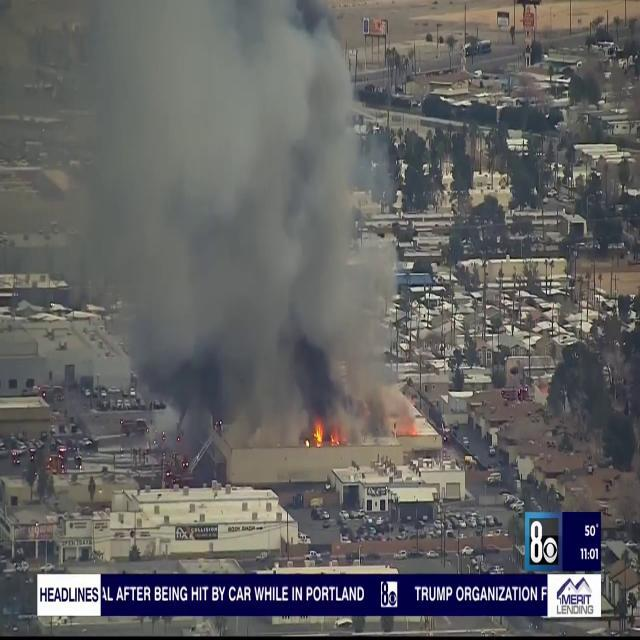Fire: (308, 414, 342, 448)
Smoke: (76, 1, 408, 456)
